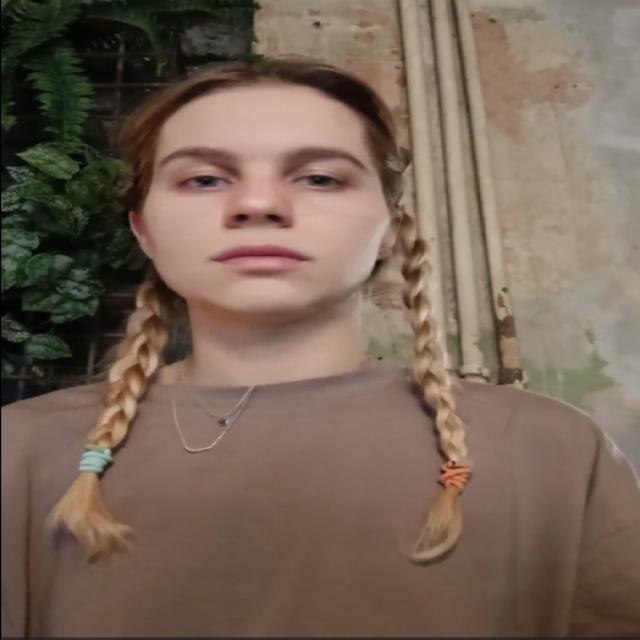eye: (176, 172, 232, 192), (294, 171, 346, 190)
nose: (230, 220, 288, 247)
wholeear: (378, 211, 406, 260), (129, 209, 154, 260)
